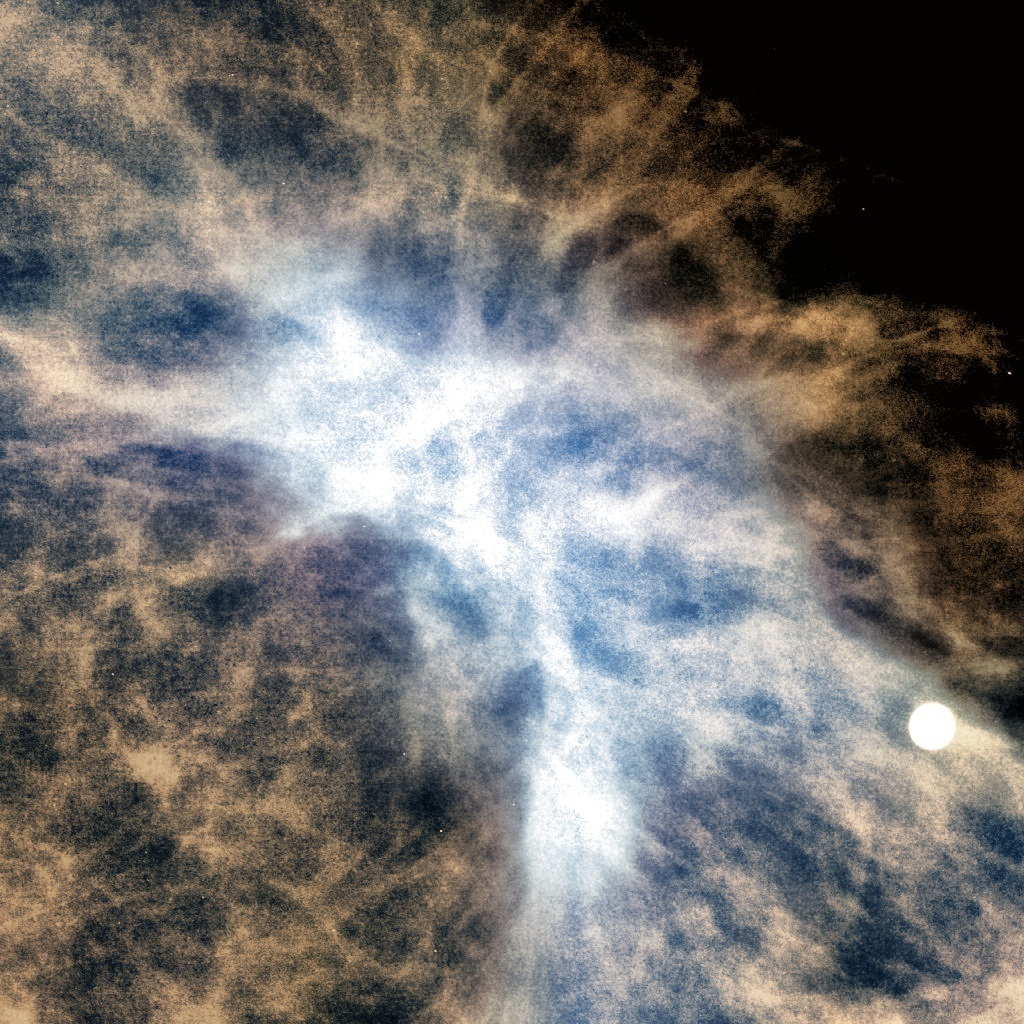tumor: (172, 196, 852, 828)
